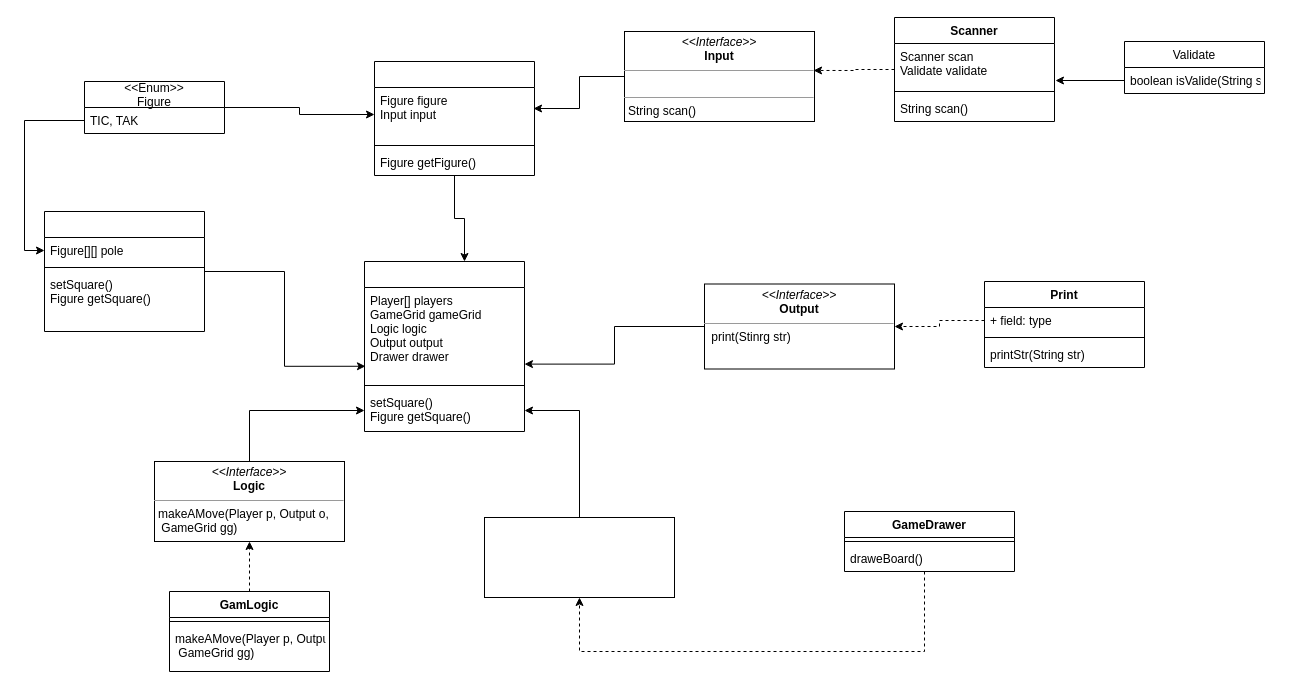
Image size: 1290x692. Some labels were removed from this diagram. Here are the shapes that lost their labels. From the top down, the box of each, then its label:
(374, 60, 534, 176): Player
(44, 210, 204, 332): GameGrid
(364, 260, 524, 432): GameRunner
(484, 516, 674, 598): <<Interface>> Drawer draweBoard()
